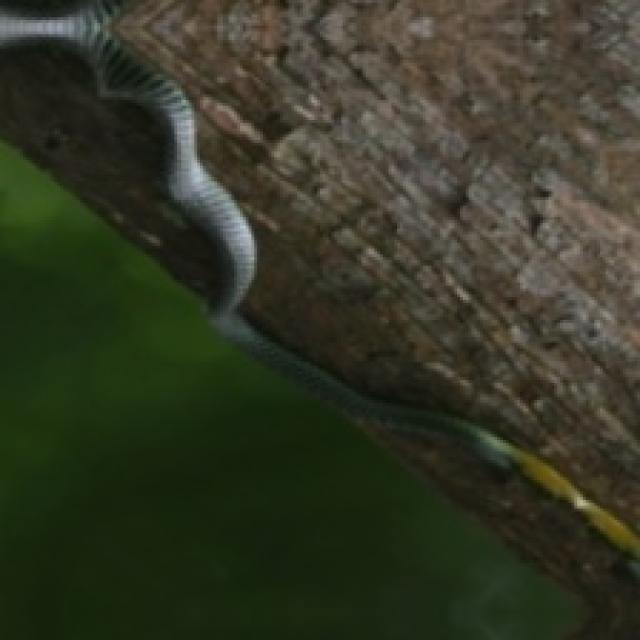paradise tree snake: (0, 0, 637, 531), (229, 323, 637, 637)
